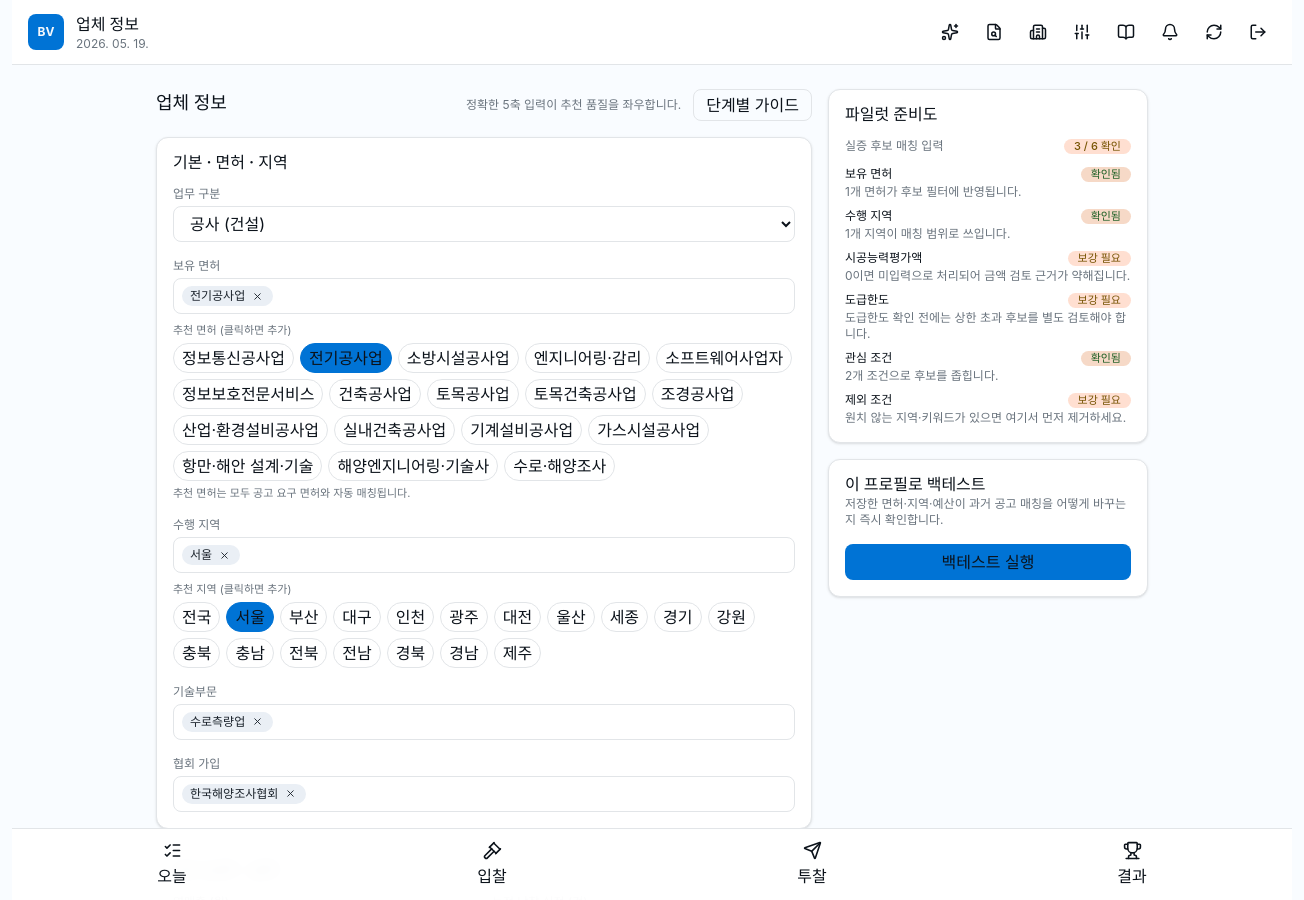
Test case: CompanyInfoEditor › 공사 면허 추천 칩 클릭 시 보유 면허에 매칭 가능한 토큰이 추가된다
What coordinates should you click on to do the following:
click the button with aria-label "보유 면허에 정보통신공사업 추가"
I would click on:
 (234, 358)
Its box is [173,342,294,372].
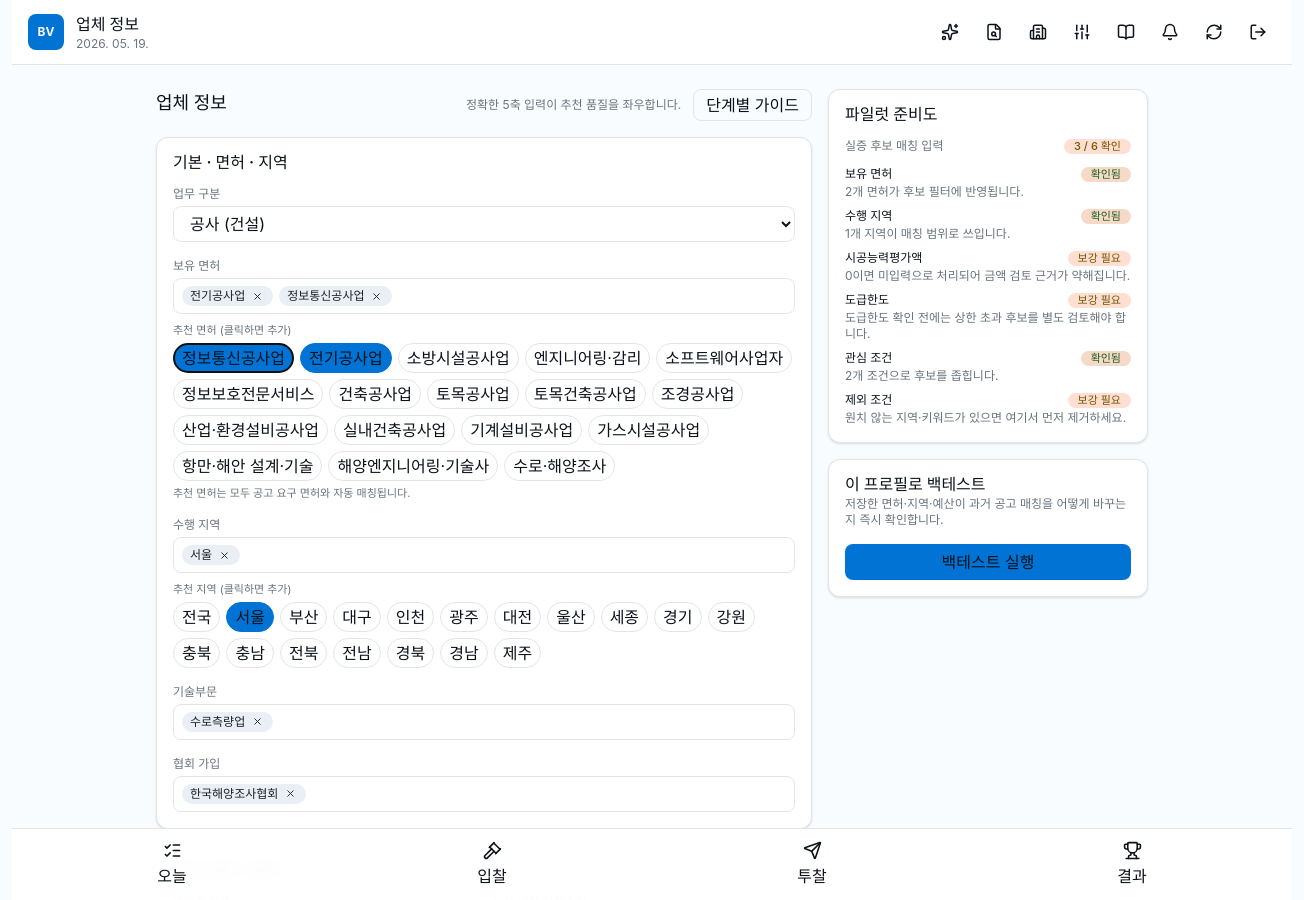
Expected: the button named "보유 면허에서 정보통신공사업 제거" is shown, [368,288,384,304]
